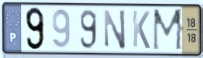9: (24, 6, 47, 52), (51, 8, 72, 51), (79, 8, 98, 50)
K: (131, 9, 152, 51)
M: (151, 8, 185, 53)
N: (103, 8, 127, 51)
